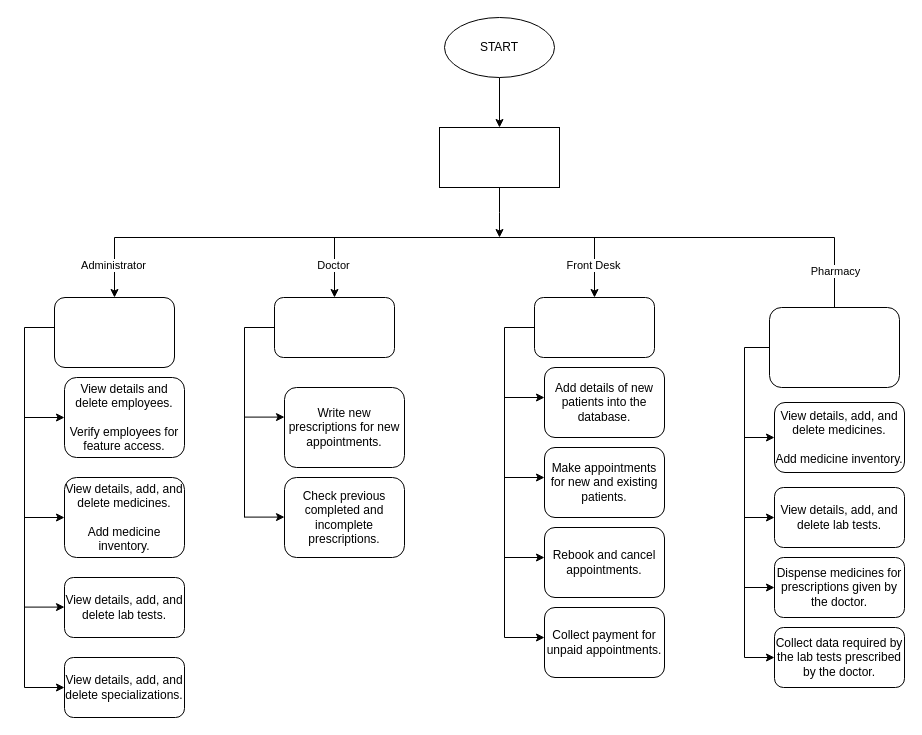
Image size: 922x735. Some labels were removed from this diagram. The centre of each missing label's shape, as x and y in pixels:
"Home Page" goes at (x=499, y=157).
"On successful Administrator authentication, the following features are available" goes at (x=114, y=332).
"On successful Doctor authentication, the following features are available" goes at (x=334, y=327).
"On successful Front Desk authentication, the following features are available" goes at (x=594, y=327).
"On successful Pharmacy authentication, the following features are available" goes at (x=834, y=347).
